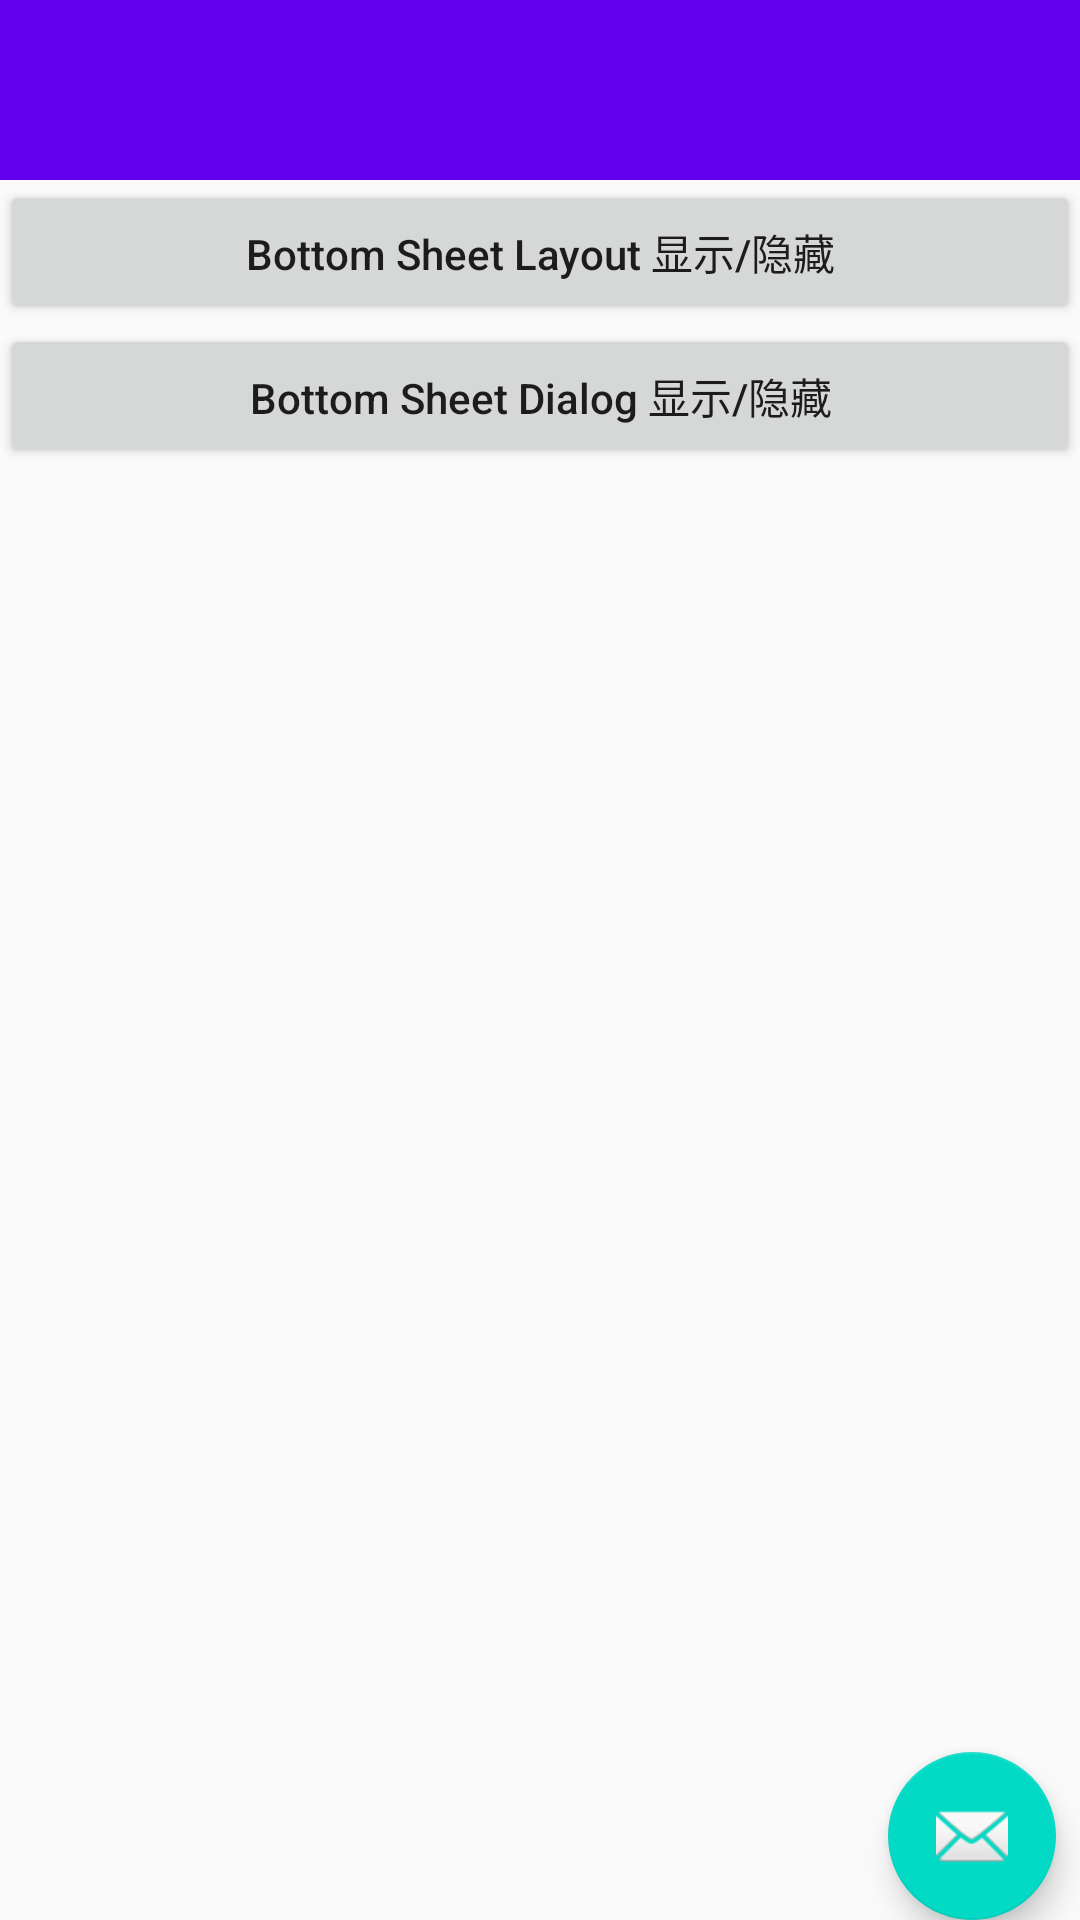

Screen size 1080px x 1920px. Icon name, then its center in pixels as (x=x, y=y):
email: (x=972, y=1836)
